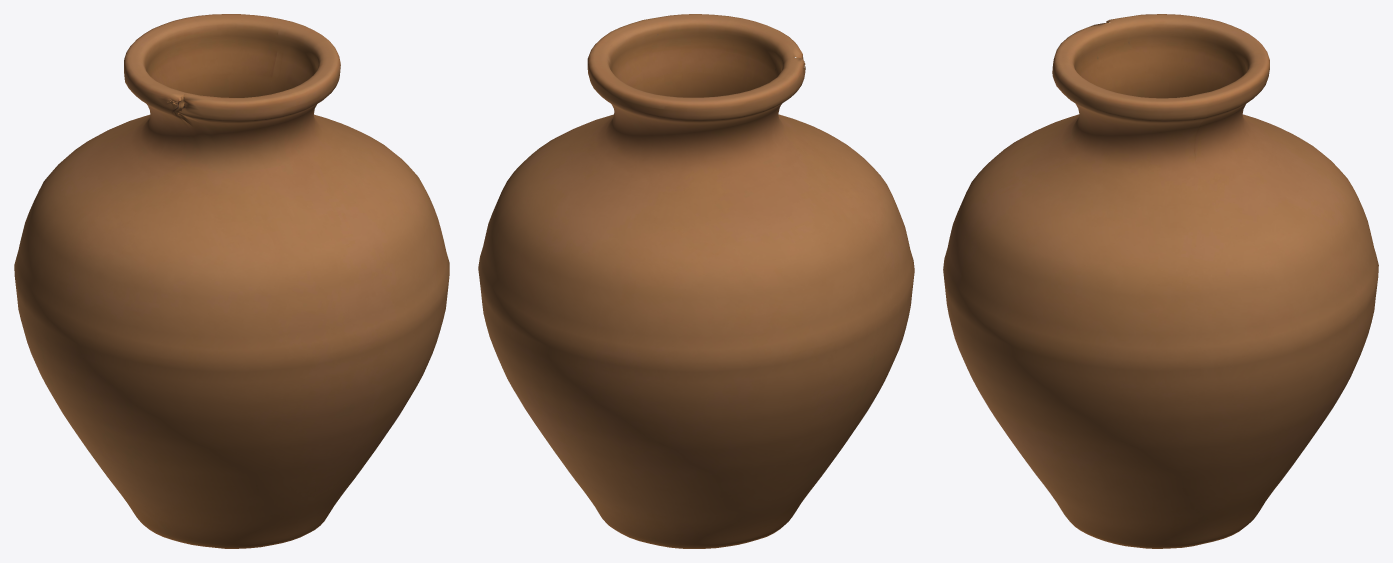
File: fired clay pot 3d model.glb
The picture shows the model from 3 angles, left to right: view 1: azimuth 30°, elevation 25°; view 2: azimuth 150°, elevation 25°; view 3: azimuth 270°, elevation 25°; orthographic projection.
Visible parts, largest first — view 1: tripo_node_072b7001; view 2: tripo_node_072b7001; view 3: tripo_node_072b7001.
Part boxes in pixels (left/top/right/bottom): tripo_node_072b7001: left=14, top=14, right=449, bottom=548; tripo_node_072b7001: left=478, top=14, right=914, bottom=548; tripo_node_072b7001: left=943, top=14, right=1378, bottom=548.
Bounding box in the file's own units: 85.81 × 98.04 × 85.91.
1 material, 1 textured.
